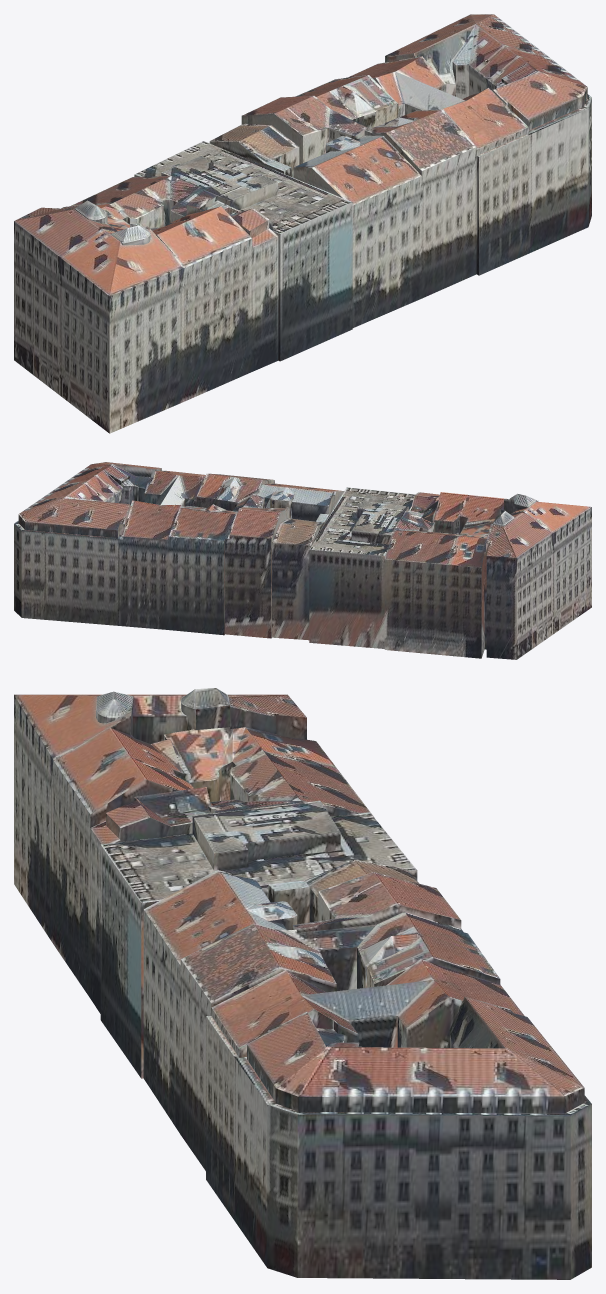
The model's file is LYON_1ER_00130.dae.
3 renders of one model, top to bottom at view 1: azimuth 30°, elevation 25°; view 2: azimuth 150°, elevation 25°; view 3: azimuth 270°, elevation 25°, orthographic. The views are drawn at different scales.
Bounding box in the file's own units: 107 × 65.89 × 29.
2 materials, 2 textured.
